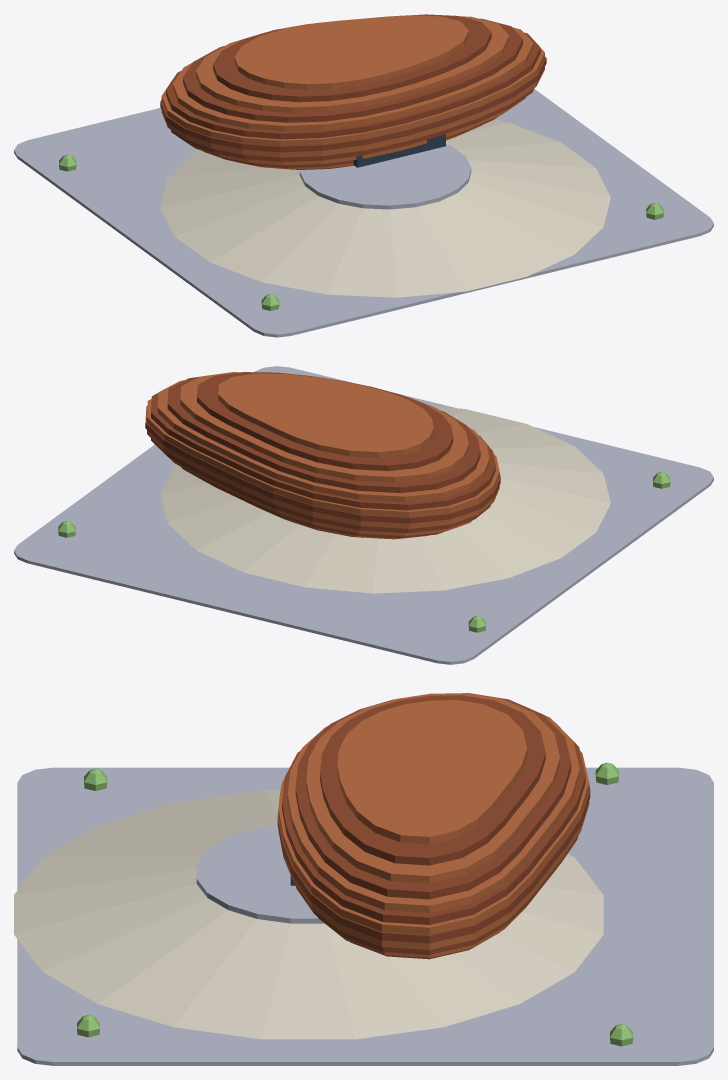
File: ordos-museum-5x5.glb
3 renders of one model, top to bottom at view 1: azimuth 30°, elevation 25°; view 2: azimuth 150°, elevation 25°; view 3: azimuth 270°, elevation 25°, orthographic. The views are drawn at different scales.
Visible parts, largest first — view 1: ordos-museum-5x5; view 2: ordos-museum-5x5; view 3: ordos-museum-5x5.
Part boxes in pixels (<box>): ordos-museum-5x5: <box>14,14,713,337</box>; ordos-museum-5x5: <box>14,366,713,664</box>; ordos-museum-5x5: <box>14,693,713,1065</box>.
Size of the model in its own units: 4.9 by 1.24 by 4.92.
Materials: 1 (1 with a texture image).
